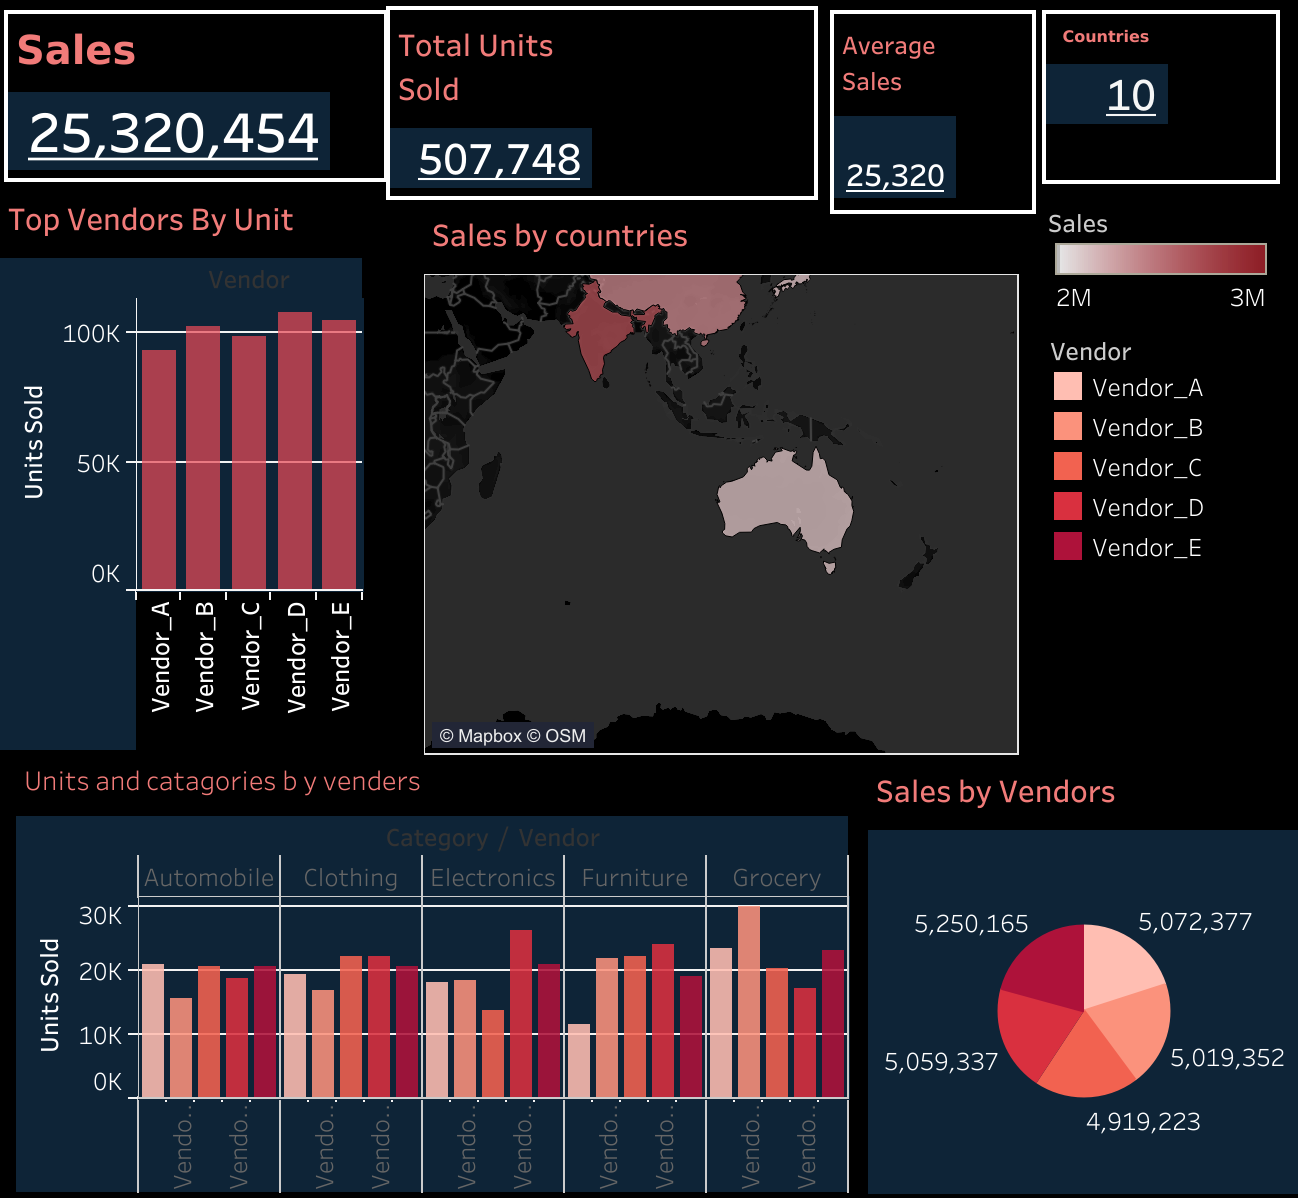

What the dashboard file says about the page in this screenshot:
{"tool":"tableau","page":{"name":"Dashboard 1","canvas":[650,860],"ordinal":0},"visuals":[{"type":"worksheet","title":"Sheet 2","mark":"Automatic","box":[193,4.4,216,138.9]},{"type":"worksheet","title":"Sheet 3","mark":"Automatic","box":[415,7.4,103,146.3]},{"type":"worksheet","title":"Sheet 1","mark":"Automatic","box":[2,7.7,192,122.3]},{"type":"worksheet","title":"Sheet 4","mark":"Automatic","box":[521,7.7,119,123.6]},{"type":"worksheet","title":"Sheet 5","mark":"Automatic","rows":["Units_Sold"],"cols":["Vendor"],"box":[0,131.3,181,405.5]},{"type":"legend","title":"Sheet 6","param":"[federated.141m6dz1k7e2e812l1e4s0b0irnq].[sum:Sales:qk]","box":[524,140.3,114,97.8]},{"type":"worksheet","title":"Sheet 6","mark":"Automatic","box":[212,143.3,298,399]},{"type":"legend","title":"Sheet 8","param":"[federated.141m6dz1k7e2e812l1e4s0b0irnq].[none:Vendor:nk]","box":[524,235.6,120,184.1]},{"type":"worksheet","title":"Sheet 9","mark":"Automatic","rows":["Units_Sold"],"cols":["Category","Vendor"],"box":[8,535.6,417,321.9]},{"type":"worksheet","title":"Sheet 8","mark":"Pie","box":[434,542,216,312.8]}]}

Visuals, with their boxes in screenshot pixels (x1, y1, x2, y2):
"Sheet 2" worksheet: (left=397, top=6, right=693, bottom=197)
"Sheet 3" worksheet: (left=701, top=10, right=843, bottom=211)
"Sheet 1" worksheet: (left=135, top=11, right=398, bottom=178)
"Sheet 4" worksheet: (left=847, top=11, right=1010, bottom=180)
"Sheet 5" worksheet: (left=132, top=180, right=380, bottom=737)
"Sheet 6" legend: (left=851, top=193, right=1007, bottom=327)
"Sheet 6" worksheet: (left=423, top=197, right=832, bottom=744)
"Sheet 8" legend: (left=851, top=323, right=1015, bottom=576)
"Sheet 9" worksheet: (left=143, top=735, right=715, bottom=1177)
"Sheet 8" worksheet (Pie marks): (left=727, top=744, right=1024, bottom=1173)
